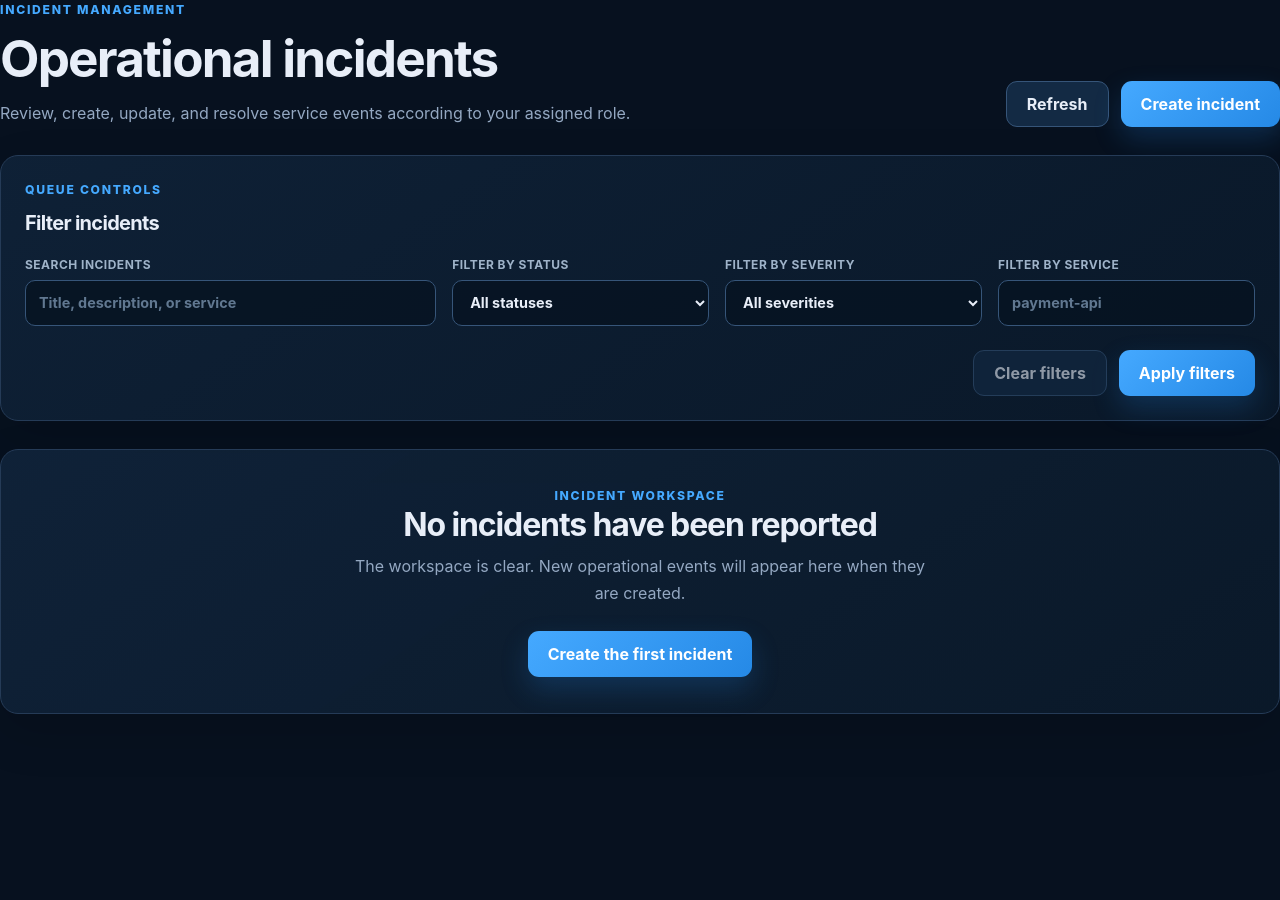
it: IncidentsPage › allows an operator to create an Incident
Expected: the heading "No incidents have been reported" is shown, [403, 506, 877, 544]
Click the button "Create incident". click: (1200, 104)
box: [1120, 81, 1279, 127]
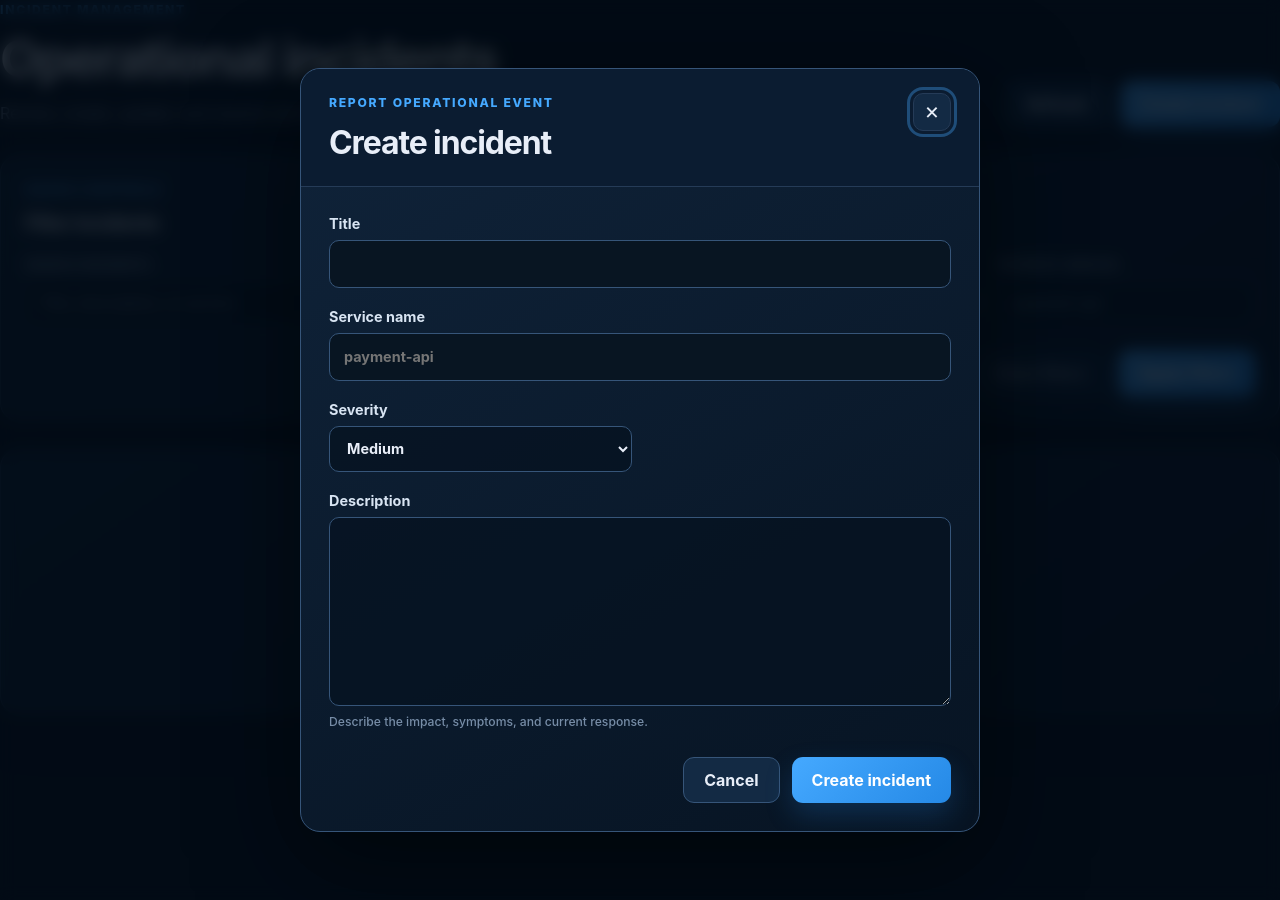
Type "Inventory synchronization delay" into the field labelled "Title". click: (640, 264)
box: [329, 240, 951, 288]
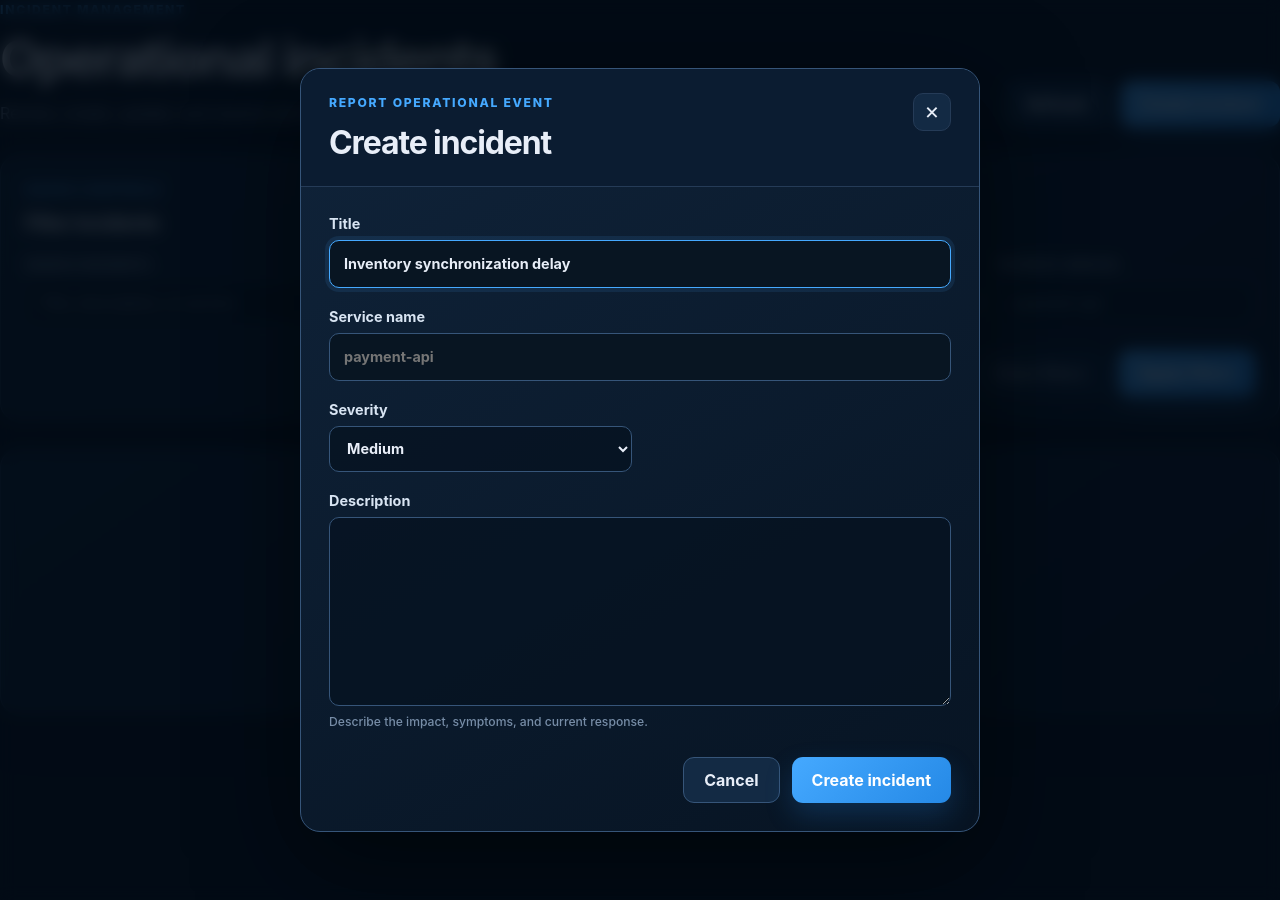
Type "inventory-worker" into the field labelled "Service name". click: (640, 357)
box: [329, 333, 951, 381]
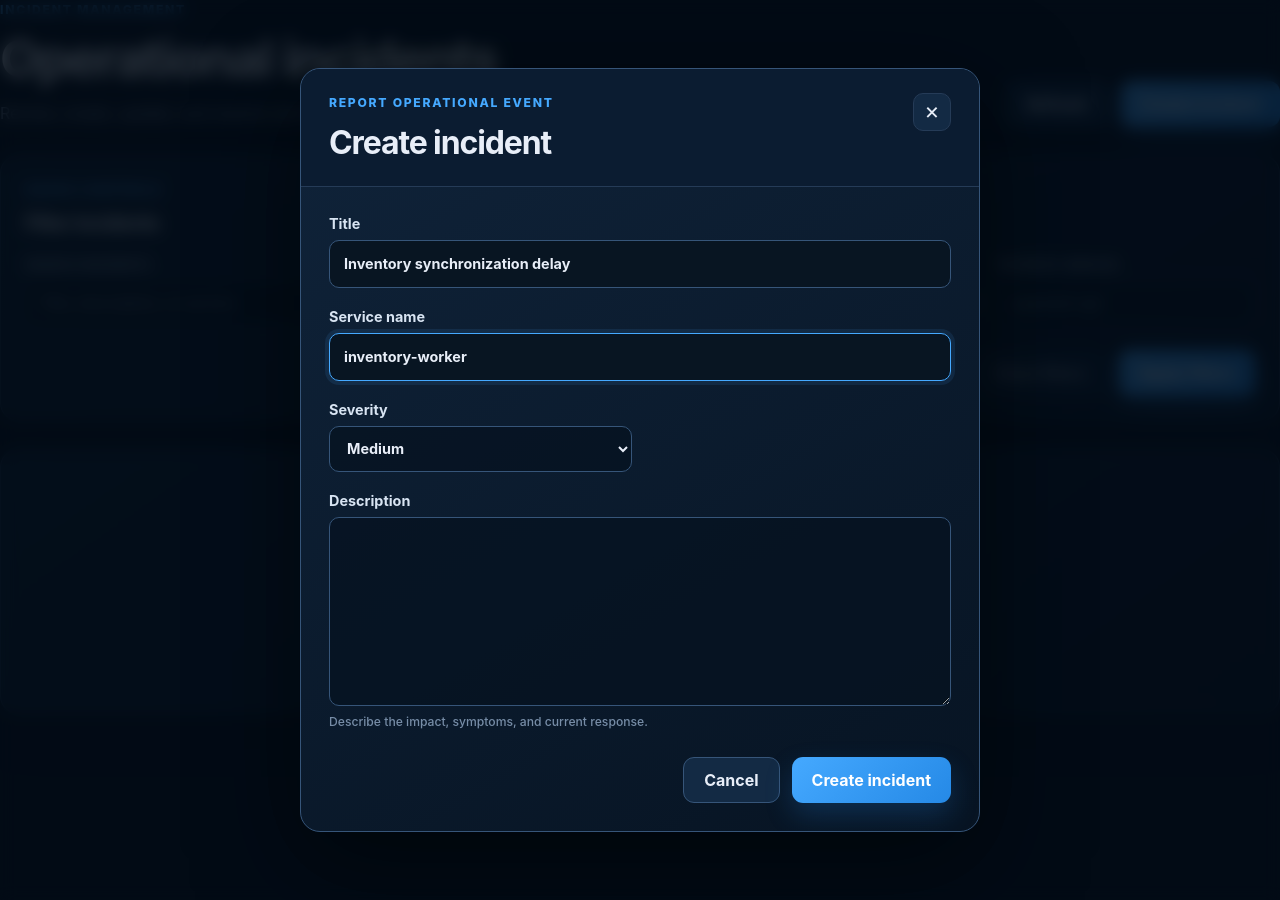
Select "High" in the dropdown labelled "Severity". click: (480, 449)
box: [329, 426, 632, 472]
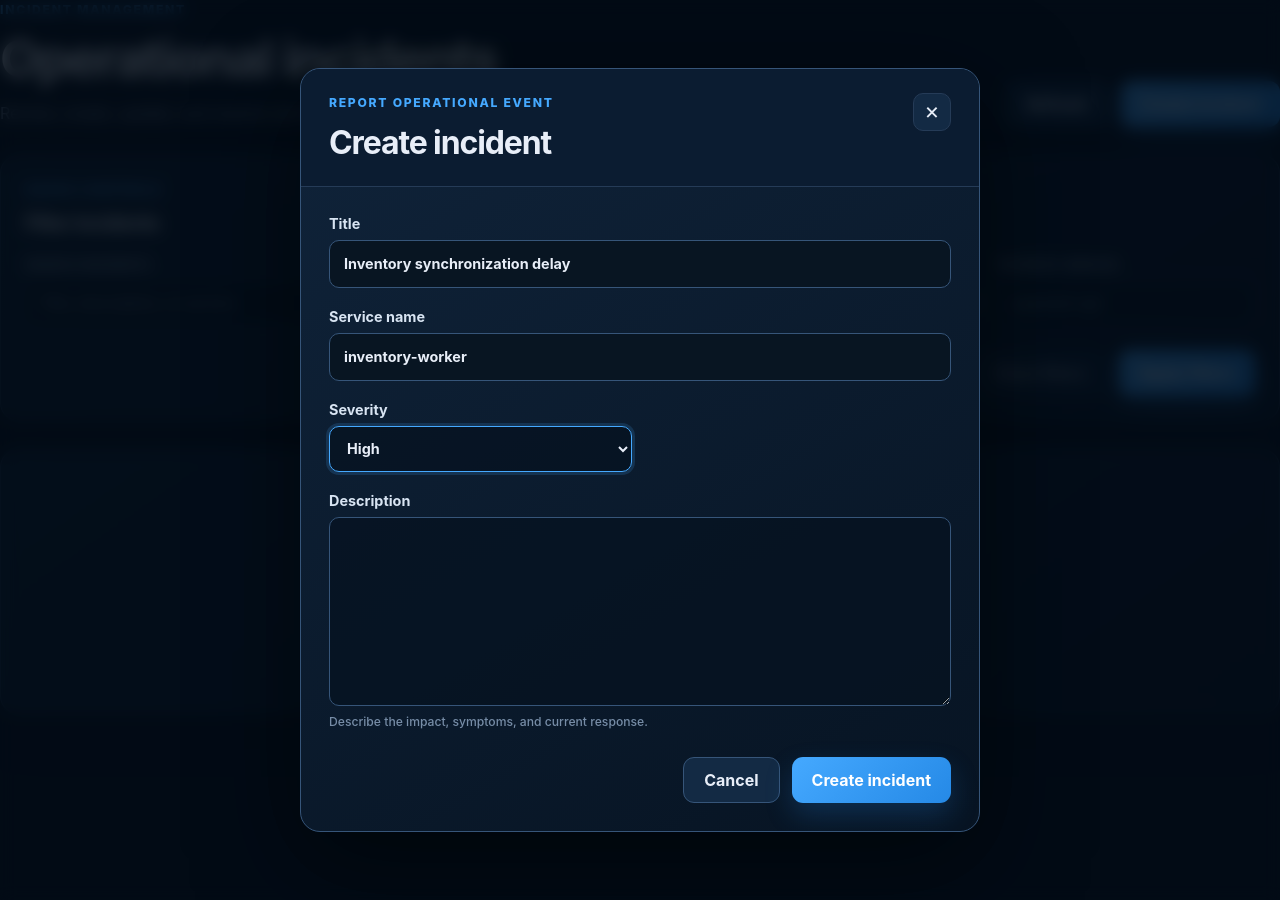
Type "Warehouse updates are delayed." into the text box labelled "Description". click: (640, 612)
box: [329, 517, 951, 706]
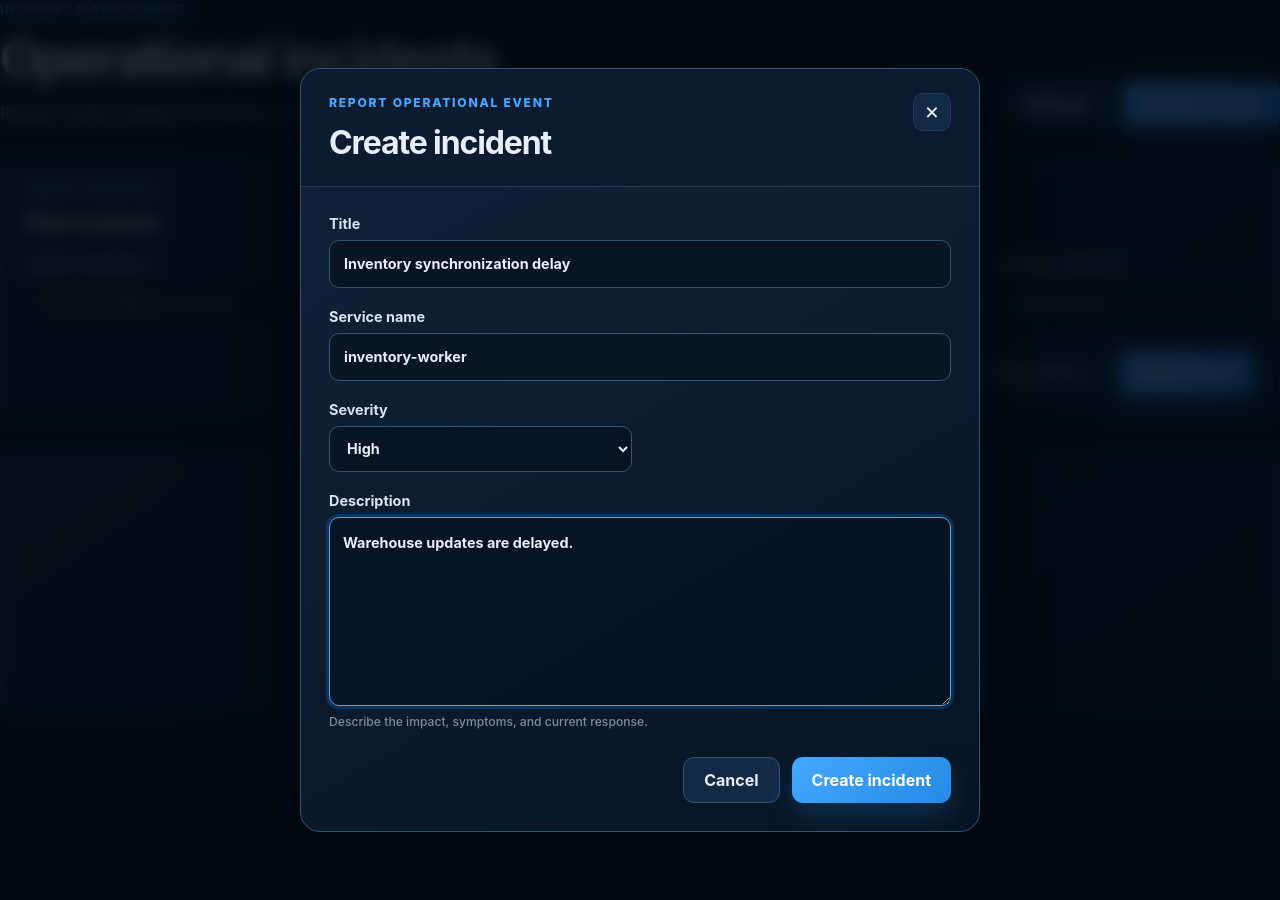
Click the button "Create incident". click: (871, 780)
box: [792, 757, 951, 803]
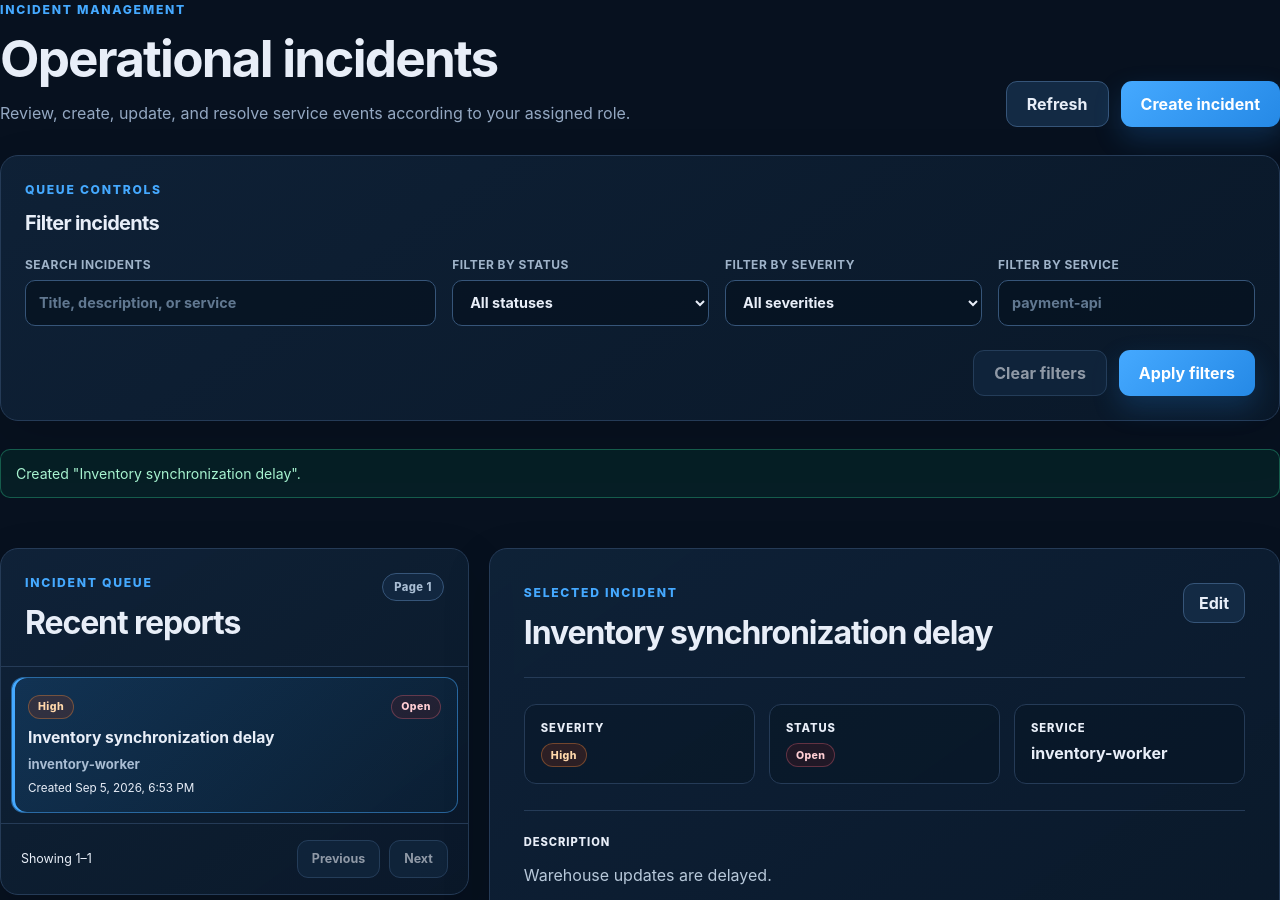
Expected: the text "Created \"Inventory synchronization delay\"." is shown, [0, 449, 1279, 498]
Expected: the text "Inventory synchronization delay" is shown 2 times, [28, 728, 274, 747]; [524, 614, 992, 652]
